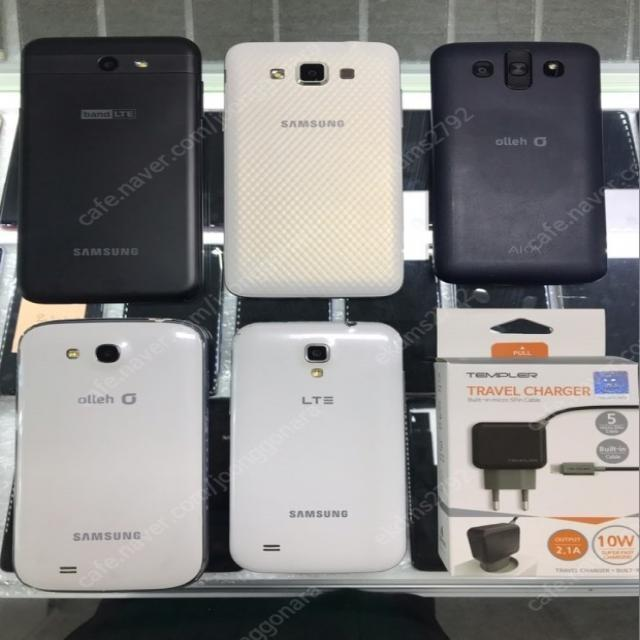phone: (16, 319, 206, 590), (21, 39, 200, 301), (226, 39, 402, 299), (430, 40, 608, 288), (234, 323, 409, 575)
